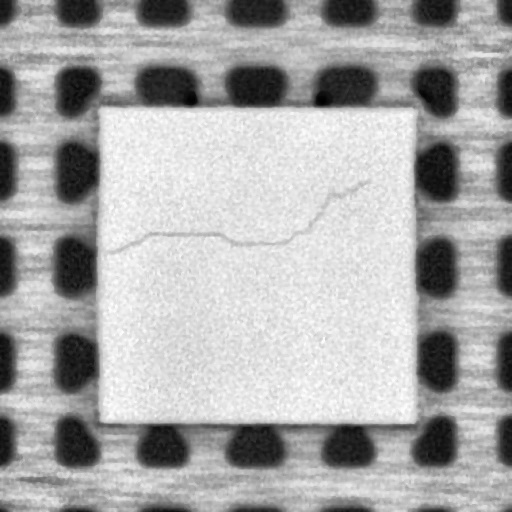DIE_CRACK: (106, 176, 376, 258)
